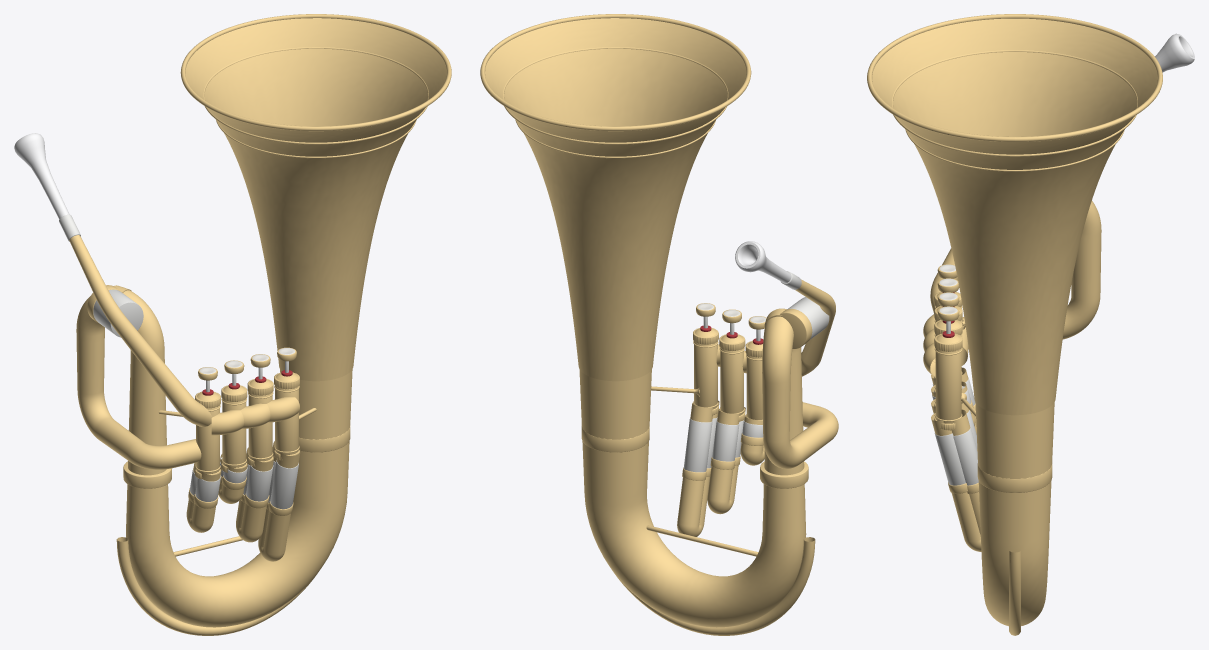
Rendered from tuba.glb.
3 renders of one model, left to right at view 1: azimuth 30°, elevation 25°; view 2: azimuth 150°, elevation 25°; view 3: azimuth 270°, elevation 25°, orthographic. The views are drawn at different scales.
Parts seen in each view (by area): view 1: Body; view 2: Body; view 3: Body.
Boxes of the visible parts, left/top/right/bottom form: Body: left=14, top=14, right=451, bottom=635; Body: left=480, top=14, right=838, bottom=635; Body: left=867, top=14, right=1194, bottom=635.
Size of the model in its own units: 0.7052 by 1.07 by 0.5367.
